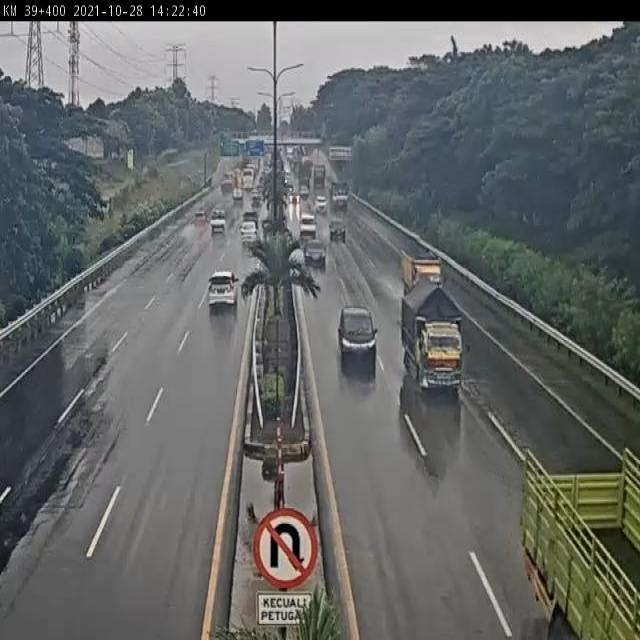Bus: (242, 169, 254, 192)
Car: (338, 307, 378, 366), (207, 270, 239, 311), (303, 240, 328, 269), (328, 218, 348, 243), (240, 220, 258, 244), (314, 196, 329, 215), (240, 210, 258, 222), (288, 191, 302, 205)
Truck: (517, 444, 640, 640), (398, 280, 470, 393), (398, 244, 447, 296), (327, 180, 351, 212), (210, 209, 228, 232), (313, 164, 327, 190)
Van: (298, 213, 318, 240)
